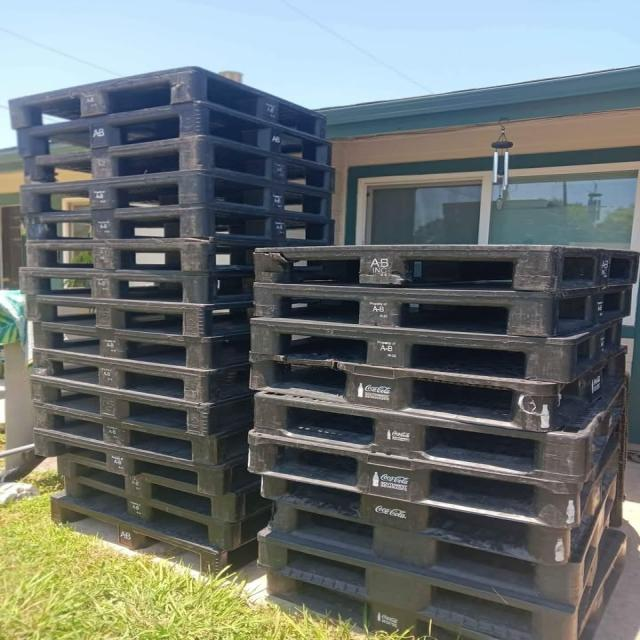non-igps: (262, 467, 632, 611), (257, 431, 633, 569), (244, 408, 634, 535), (244, 367, 640, 488), (249, 522, 632, 640), (241, 341, 640, 435), (243, 311, 640, 389), (5, 64, 329, 144), (243, 275, 640, 340), (13, 95, 336, 171), (241, 239, 640, 299), (20, 132, 338, 196), (46, 488, 262, 582), (253, 564, 505, 640), (16, 167, 334, 225), (52, 447, 280, 527), (58, 472, 280, 554), (29, 426, 265, 500), (26, 370, 264, 441), (19, 199, 339, 251), (29, 399, 258, 469), (29, 344, 266, 408), (29, 318, 256, 380), (22, 289, 268, 345), (17, 265, 258, 312), (23, 236, 262, 278)
